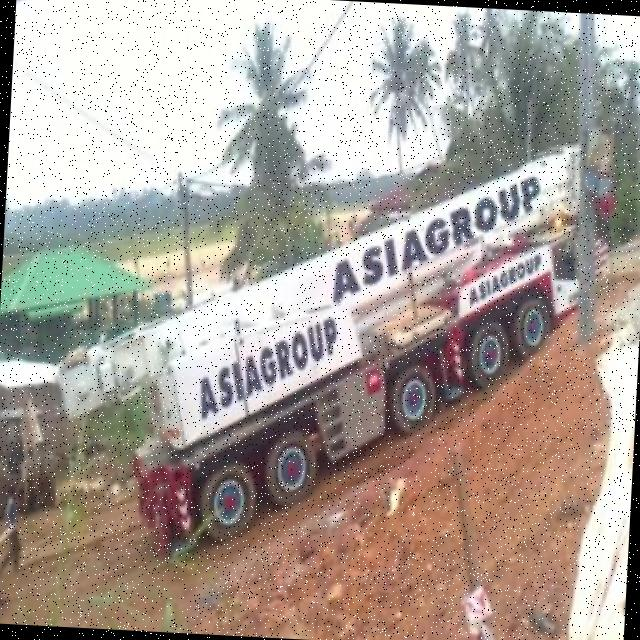Mobile Crane: (58, 97, 580, 504)
